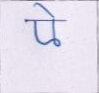o_matra: (48, 7, 60, 45)
